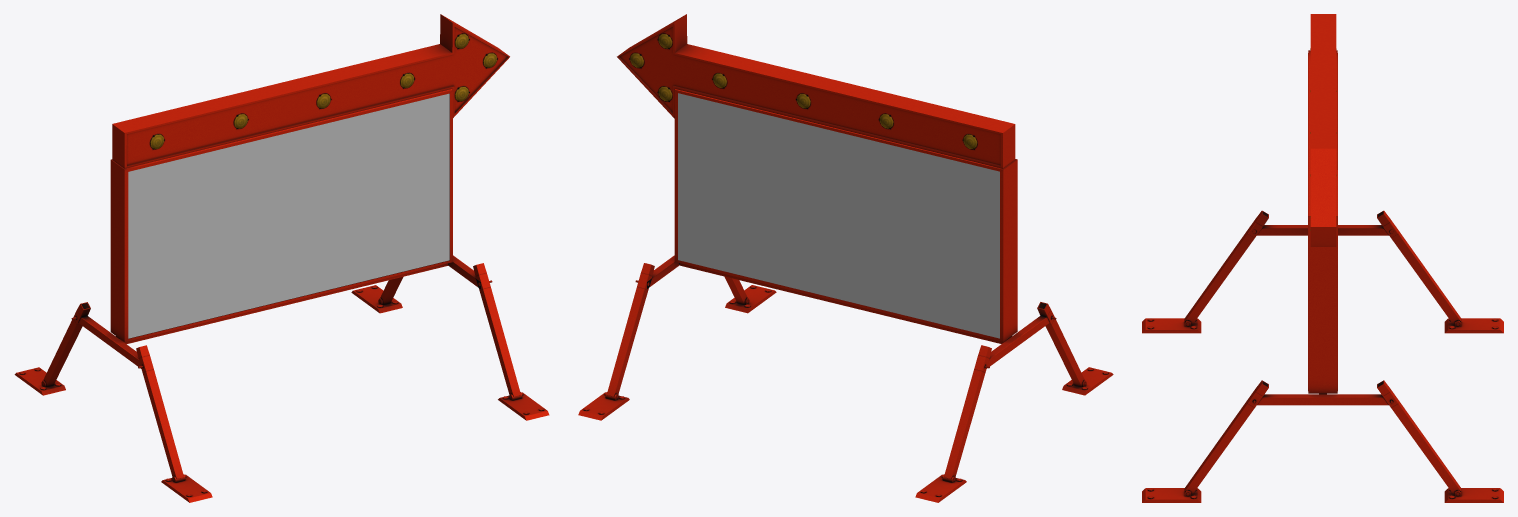
The model's file is marquee_sign_lod3.fbx.
3 views of the same model, side by side, from view 1: azimuth 30°, elevation 25°; view 2: azimuth 150°, elevation 25°; view 3: azimuth 270°, elevation 25° (orthographic). The views are drawn at different scales.
Visible parts, largest first — view 1: marquee, arrow, stand; view 2: marquee, arrow, stand; view 3: stand, arrow, marquee.
Boxes of the visible parts, box(x1,y1,x2,y2) form: marquee: box(110, 89, 452, 341); arrow: box(112, 14, 509, 168); stand: box(14, 255, 549, 502); marquee: box(674, 89, 1017, 341); arrow: box(617, 14, 1015, 168); stand: box(578, 255, 1113, 502); stand: box(1142, 210, 1503, 502); arrow: box(1310, 14, 1336, 246); marquee: box(1308, 50, 1337, 393).
Size of the model in its own units: 257 by 205 by 194.
